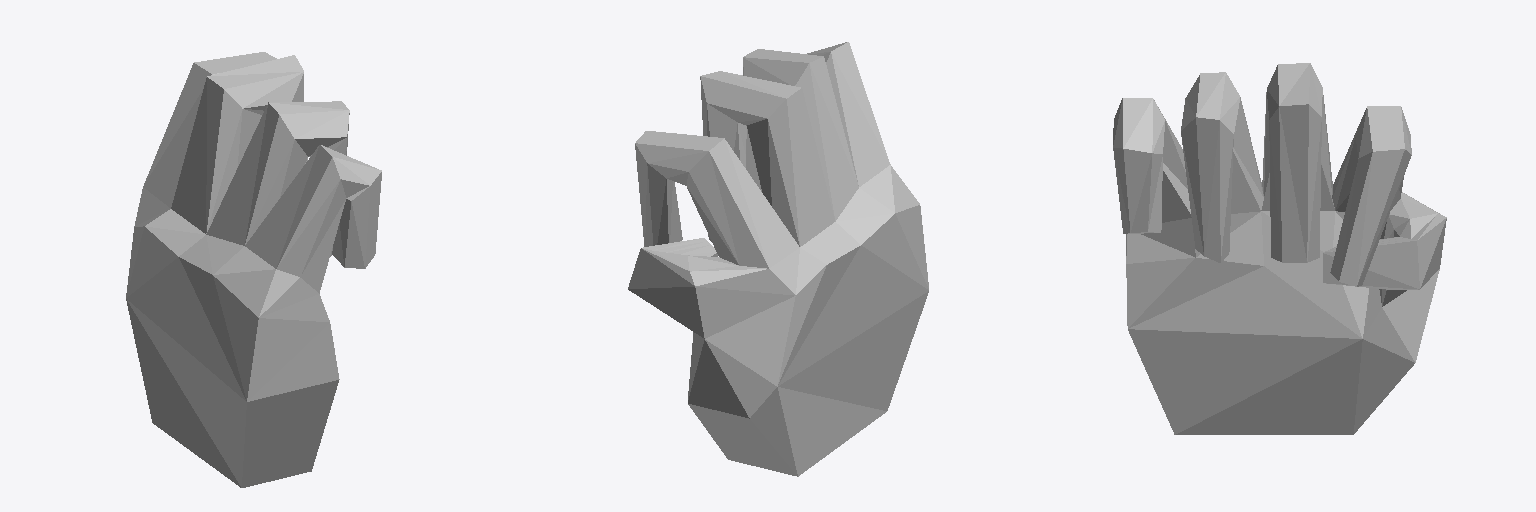
File: hand_fist.obj
3 views of the same model, side by side, from view 1: azimuth 30°, elevation 25°; view 2: azimuth 150°, elevation 25°; view 3: azimuth 270°, elevation 25° (orthographic).
Visible parts, largest first — view 1: Fist_Cube.004; view 2: Fist_Cube.004; view 3: Fist_Cube.004.
Boxes of the visible parts, x1,y1,x2,y2 form: Fist_Cube.004: [126, 52, 381, 487]; Fist_Cube.004: [628, 42, 928, 476]; Fist_Cube.004: [1113, 63, 1446, 434].
Size of the model in its own units: 3.19 by 6.36 by 5.42.